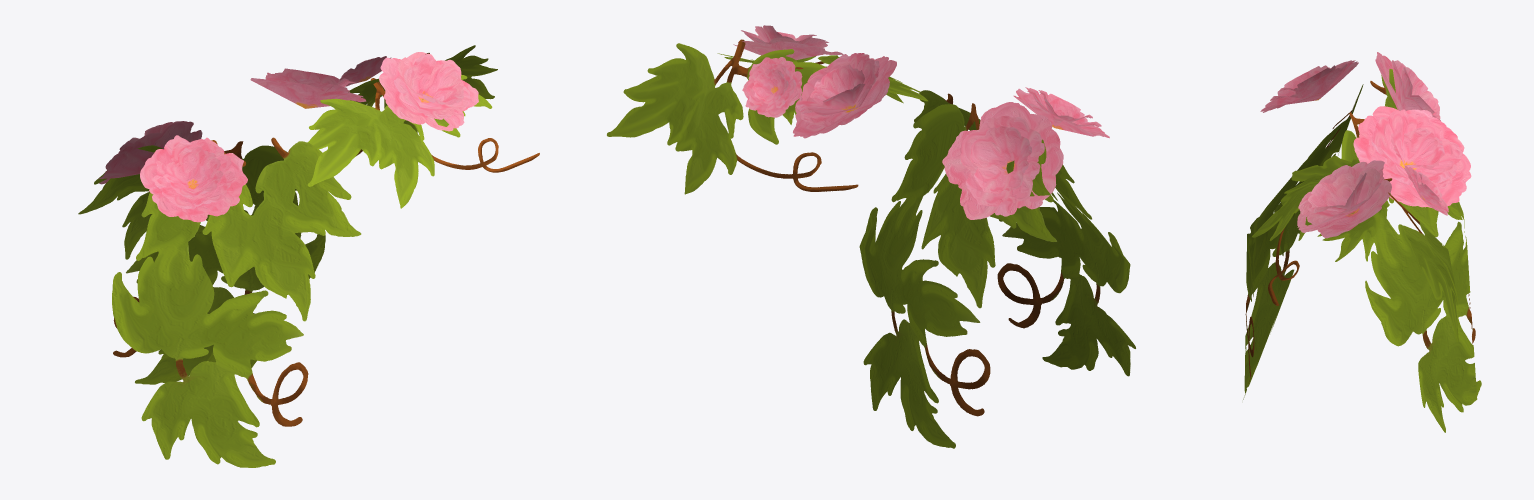
Rendered from sm_fleurs_05.fbx.
3 renders of one model, left to right at view 1: azimuth 30°, elevation 25°; view 2: azimuth 150°, elevation 25°; view 3: azimuth 270°, elevation 25°, orthographic. The views are drawn at different scales.
Parts seen in each view (by area): view 1: sm_fleurs_05; view 2: sm_fleurs_05; view 3: sm_fleurs_05.
Part boxes in pixels (x1,y1,x2,y2): sm_fleurs_05: (78, 45, 539, 467); sm_fleurs_05: (607, 25, 1135, 448); sm_fleurs_05: (1243, 52, 1481, 432).
Bounding box in the file's own units: 130 × 90.2 × 67.37.
